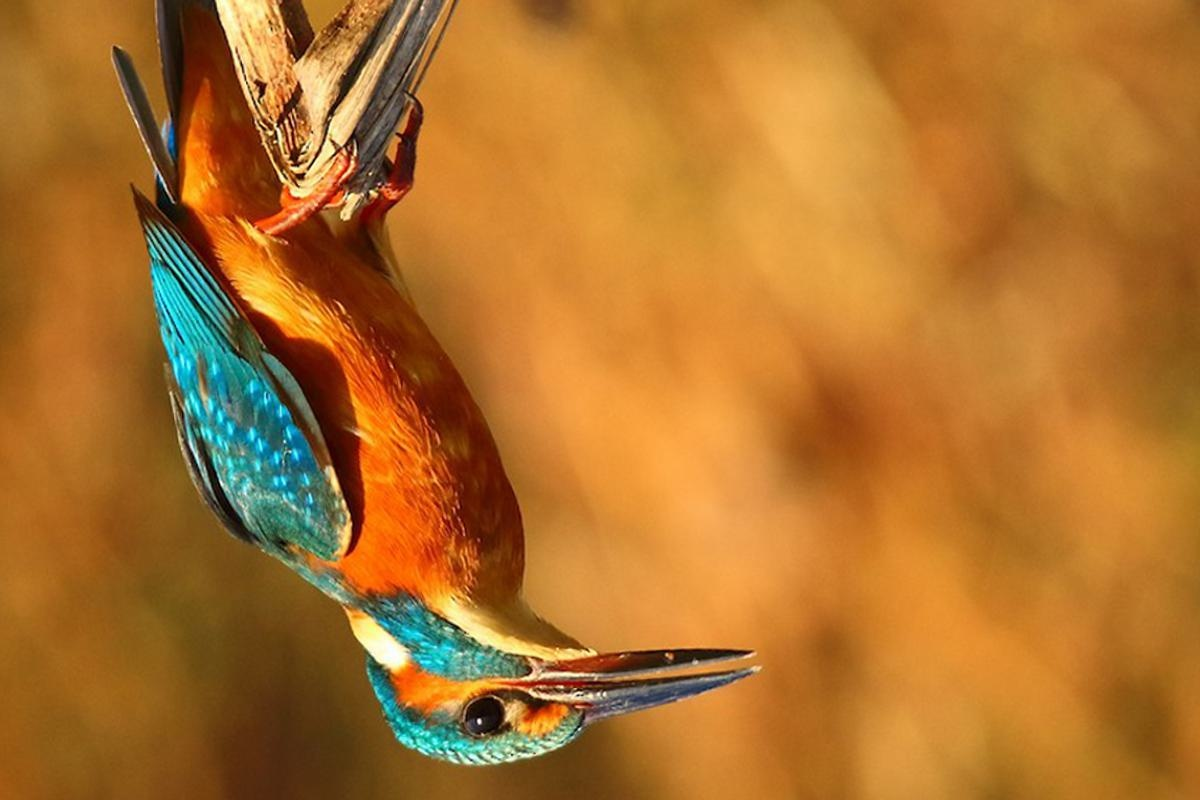kingfisher: (122, 44, 773, 764)
